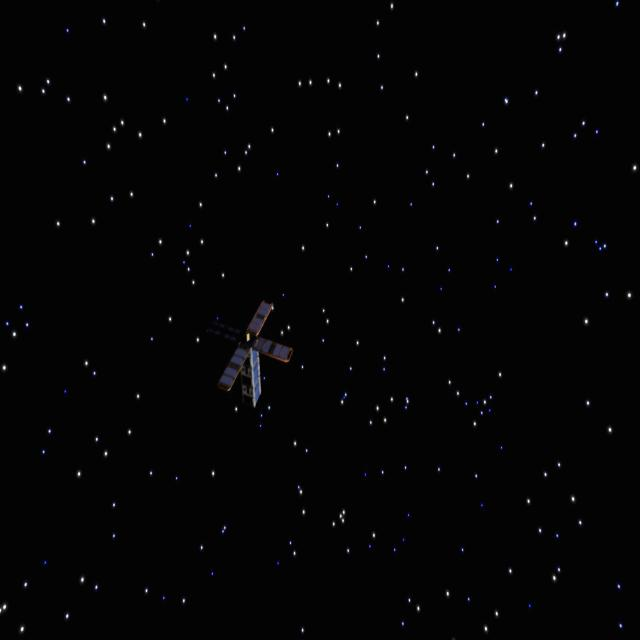medium_debris: (214, 294, 306, 413)
